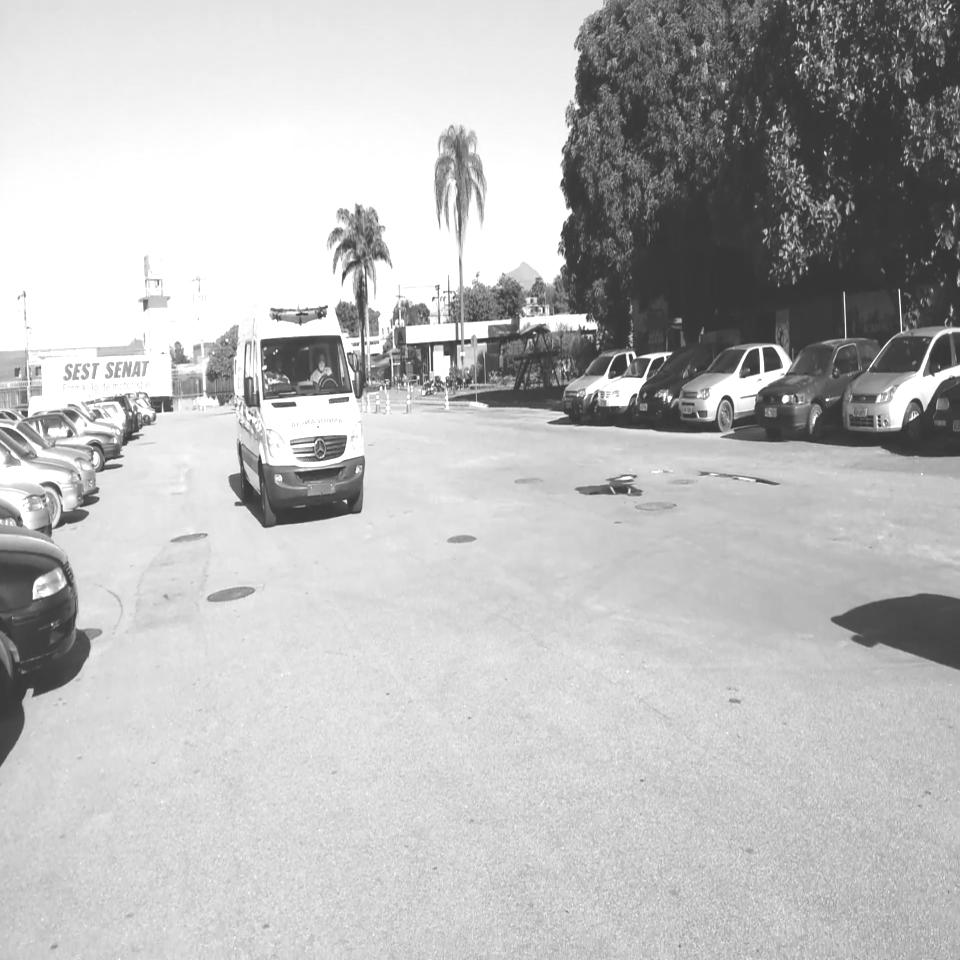ambulancia: (233, 296, 367, 526)
